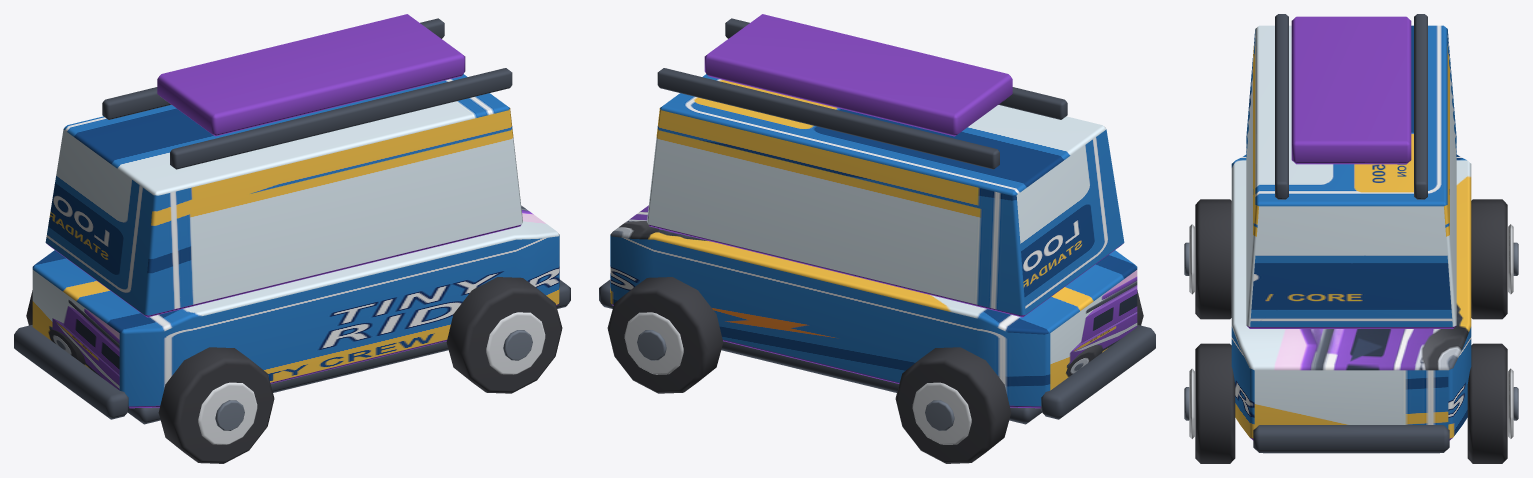
3 renders of one model, left to right at view 1: azimuth 30°, elevation 25°; view 2: azimuth 150°, elevation 25°; view 3: azimuth 270°, elevation 25°, orthographic. The views are drawn at different scales.
Visible parts, largest first — view 1: CC-05_cabin, CC-05_connected_shell, utility load, utility rail, Tire.002, Tire, front bumper, Rim, underbody, Rim.002, utility rail.001, Hub (+1 smaller); view 2: CC-05_cabin, CC-05_connected_shell, utility load, utility rail.001, Tire.003, Tire.001, front bumper, Rim.001, underbody, Rim.003, utility rail, Hub.001 (+1 smaller); view 3: CC-05_cabin, CC-05_connected_shell, utility load, rear bumper, Tire.002, Tire.003, Tire, Tire.001, utility rail, utility rail.001, Rim, Rim.001 (+2 smaller).
Boxes of the visible parts, x1=… form: CC-05_cabin: x1=45, y1=74, x2=522, y2=317; CC-05_connected_shell: x1=32, y1=205, x2=559, y2=408; utility load: x1=157, y1=14, x2=465, y2=136; utility rail: x1=170, y1=68, x2=512, y2=169; Tire.002: x1=446, y1=277, x2=562, y2=393; Tire: x1=158, y1=347, x2=274, y2=463; front bumper: x1=14, y1=325, x2=129, y2=419; Rim: x1=198, y1=382, x2=257, y2=444; underbody: x1=128, y1=341, x2=448, y2=424; Rim.002: x1=486, y1=312, x2=545, y2=374; utility rail.001: x1=102, y1=18, x2=444, y2=119; Hub: x1=215, y1=400, x2=244, y2=430; CC-05_cabin: x1=647, y1=74, x2=1124, y2=317; CC-05_connected_shell: x1=610, y1=205, x2=1137, y2=408; utility load: x1=704, y1=14, x2=1012, y2=136; utility rail.001: x1=657, y1=68, x2=999, y2=169; Tire.003: x1=607, y1=277, x2=723, y2=393; Tire.001: x1=895, y1=347, x2=1011, y2=463; front bumper: x1=1040, y1=325, x2=1155, y2=419; Rim.001: x1=912, y1=382, x2=971, y2=444; underbody: x1=721, y1=341, x2=1041, y2=424; Rim.003: x1=624, y1=312, x2=683, y2=374; utility rail: x1=725, y1=18, x2=1067, y2=119; Hub.001: x1=925, y1=400, x2=954, y2=430; CC-05_cabin: x1=1246, y1=25, x2=1456, y2=328; CC-05_connected_shell: x1=1231, y1=154, x2=1471, y2=440; utility load: x1=1291, y1=16, x2=1411, y2=164; rear bumper: x1=1253, y1=425, x2=1449, y2=452; Tire.002: x1=1195, y1=343, x2=1235, y2=463; Tire.003: x1=1467, y1=343, x2=1507, y2=463; Tire: x1=1195, y1=199, x2=1231, y2=319; Tire.001: x1=1471, y1=199, x2=1507, y2=319; utility rail: x1=1275, y1=14, x2=1288, y2=199; utility rail.001: x1=1414, y1=14, x2=1427, y2=199; Rim: x1=1189, y1=224, x2=1194, y2=294; Rim.001: x1=1508, y1=224, x2=1513, y2=294.
Size of the model in its own units: 358 by 226 by 216.
